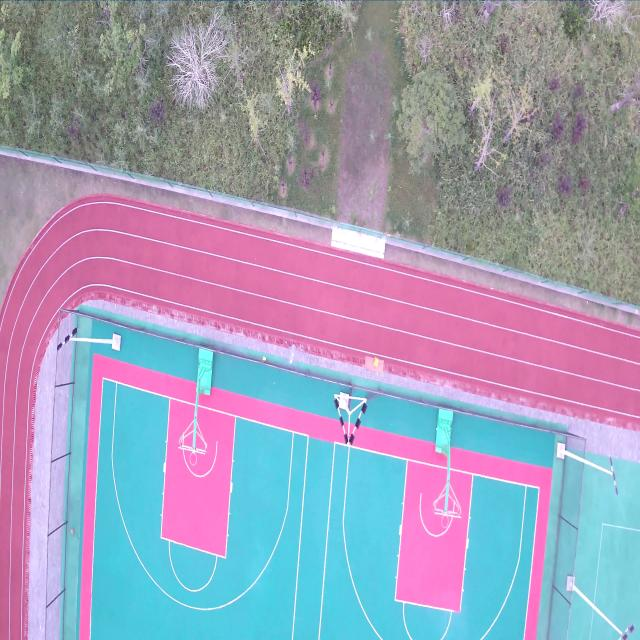UAV: (282, 338, 302, 375)
